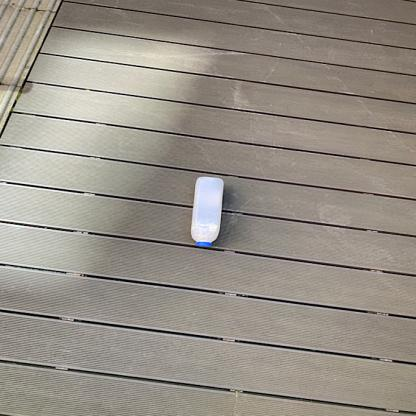trash: (189, 176, 225, 248)
